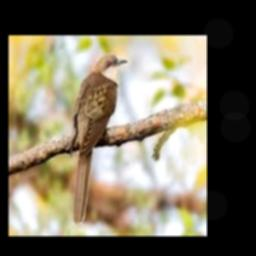Cuckoo: (71, 53, 128, 225)
